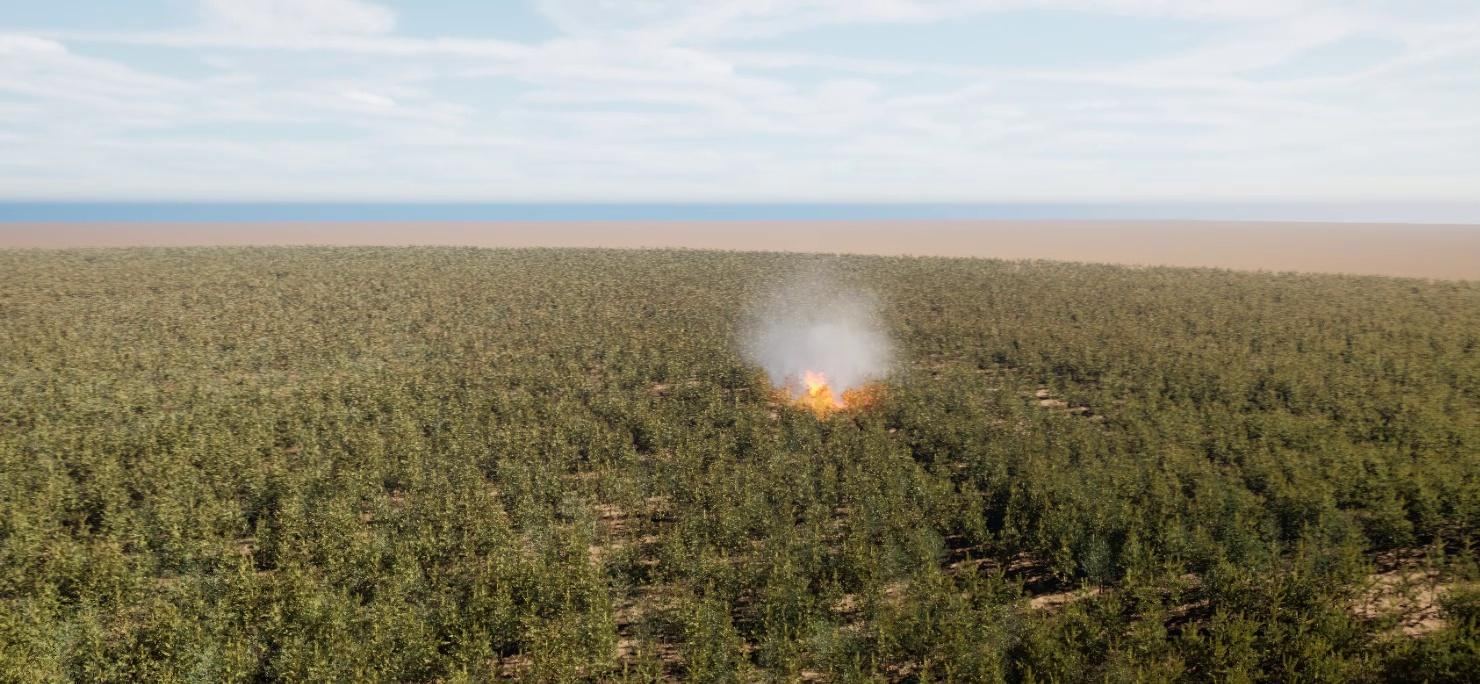fire: (797, 370, 869, 408)
smoke: (722, 258, 904, 403)
